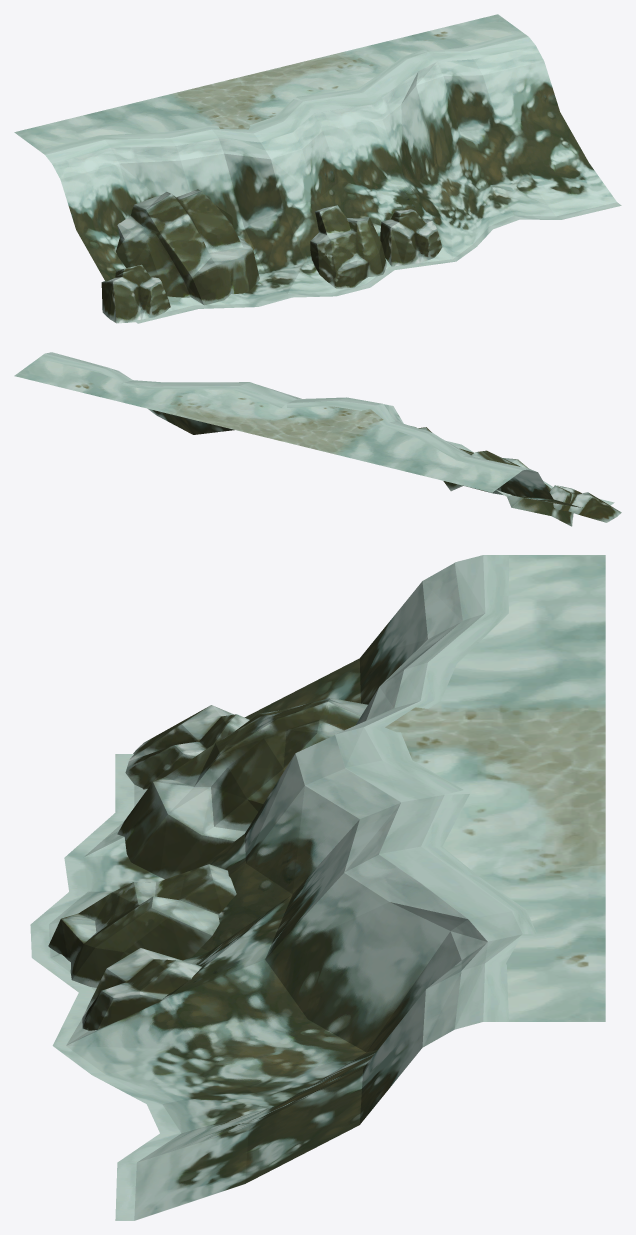
File: tundra_straight_basecap01.fbx
The picture shows the model from 3 angles, top to bottom: view 1: azimuth 30°, elevation 25°; view 2: azimuth 150°, elevation 25°; view 3: azimuth 270°, elevation 25°; orthographic projection. The views are drawn at different scales.
Visible parts, largest first — view 1: obj4.001; view 2: obj4.001; view 3: obj4.001.
Part boxes in pixels (x1,y1,x2,y2): obj4.001: (14,14,621,323); obj4.001: (14,352,621,526); obj4.001: (30,555,605,1220).
Bounding box in the file's own units: 20.63 × 4.42 × 10.41.
